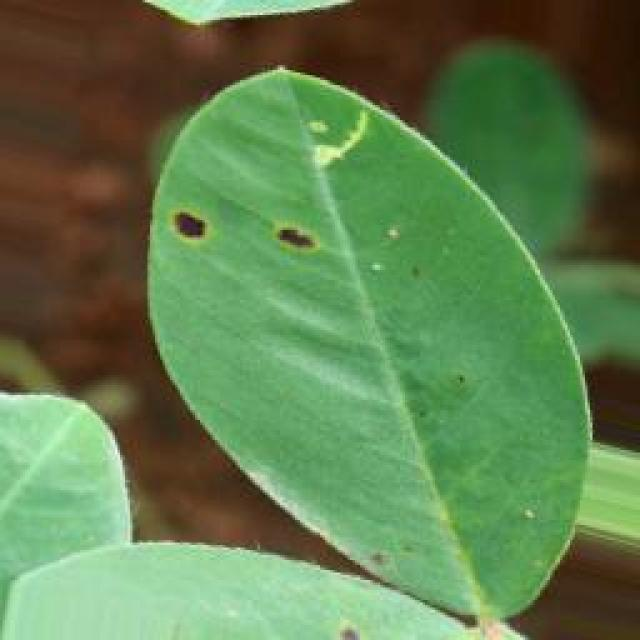Early_leaf_spot: (164, 187, 223, 273), (270, 214, 334, 290), (325, 600, 367, 640)
